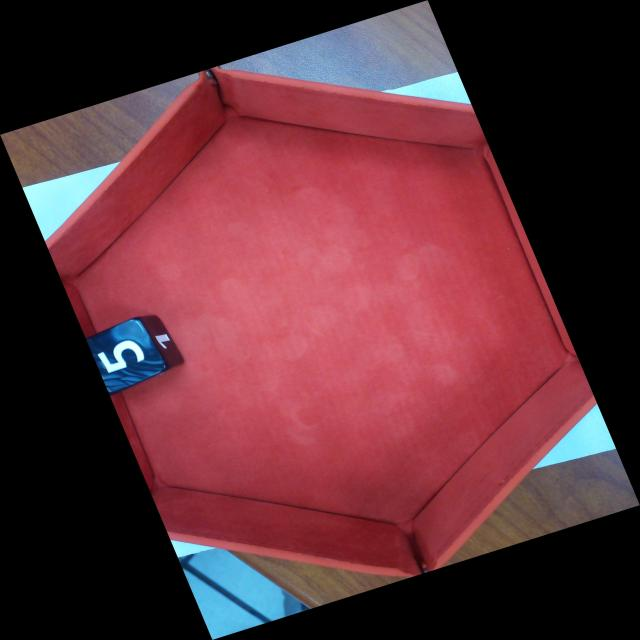dice: (86, 317, 172, 396)
